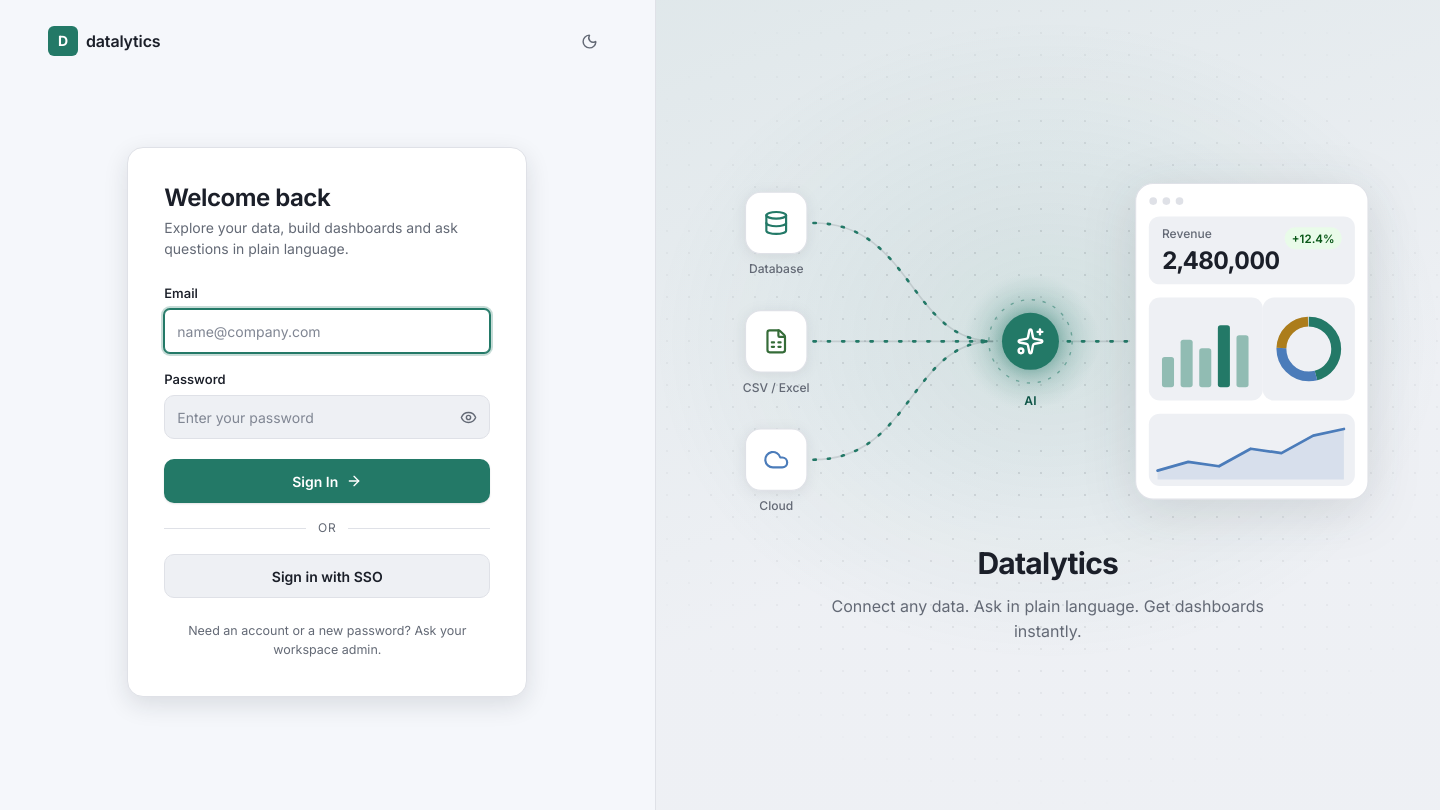
Test case: App: login comes first › stays on the login page and explains when the password is wrong
In the field labelled "Email": (327, 331) [164,309,490,353], type "alice@x.com"
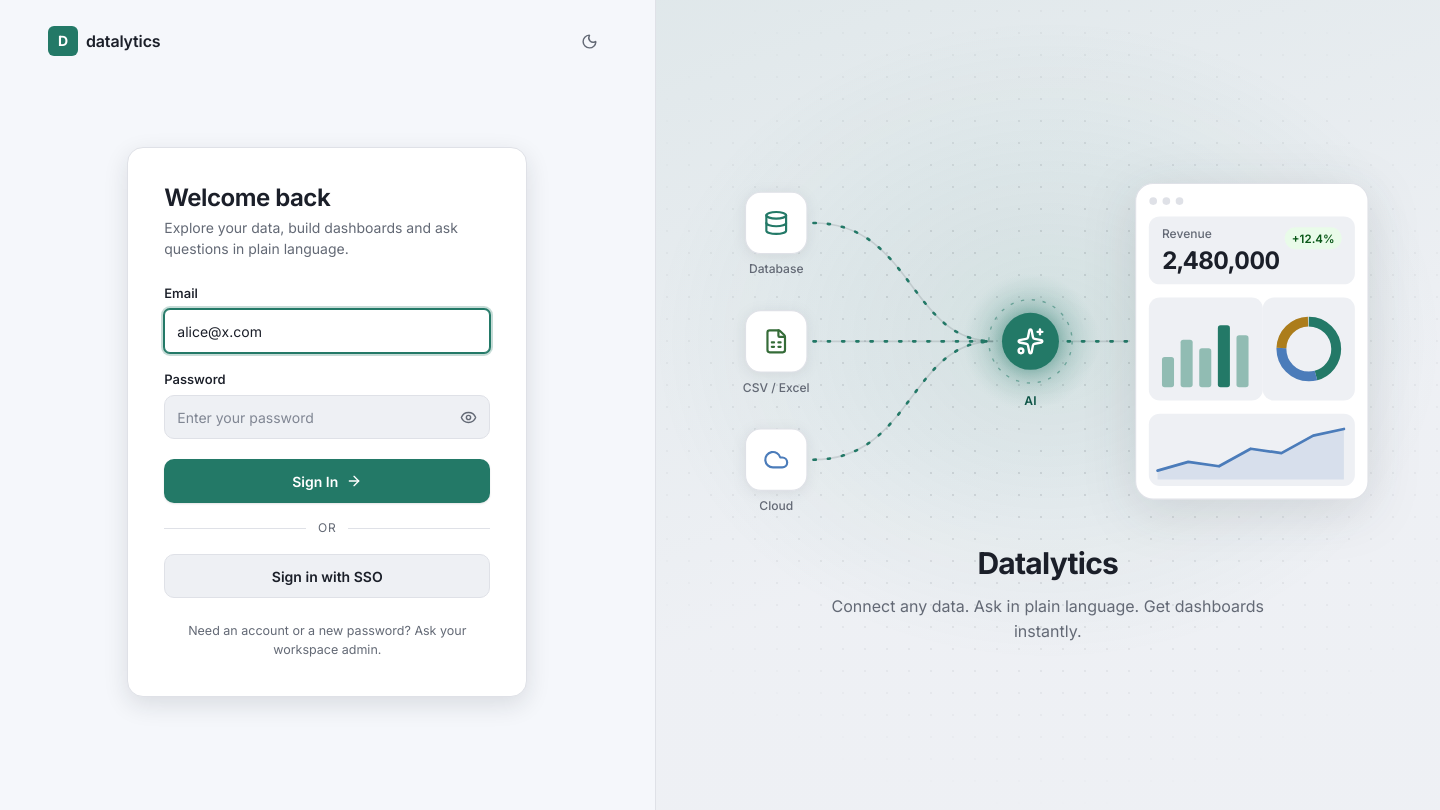
In the password field labelled "Password": (327, 418) [164,396,490,440], type "wrong-pass"
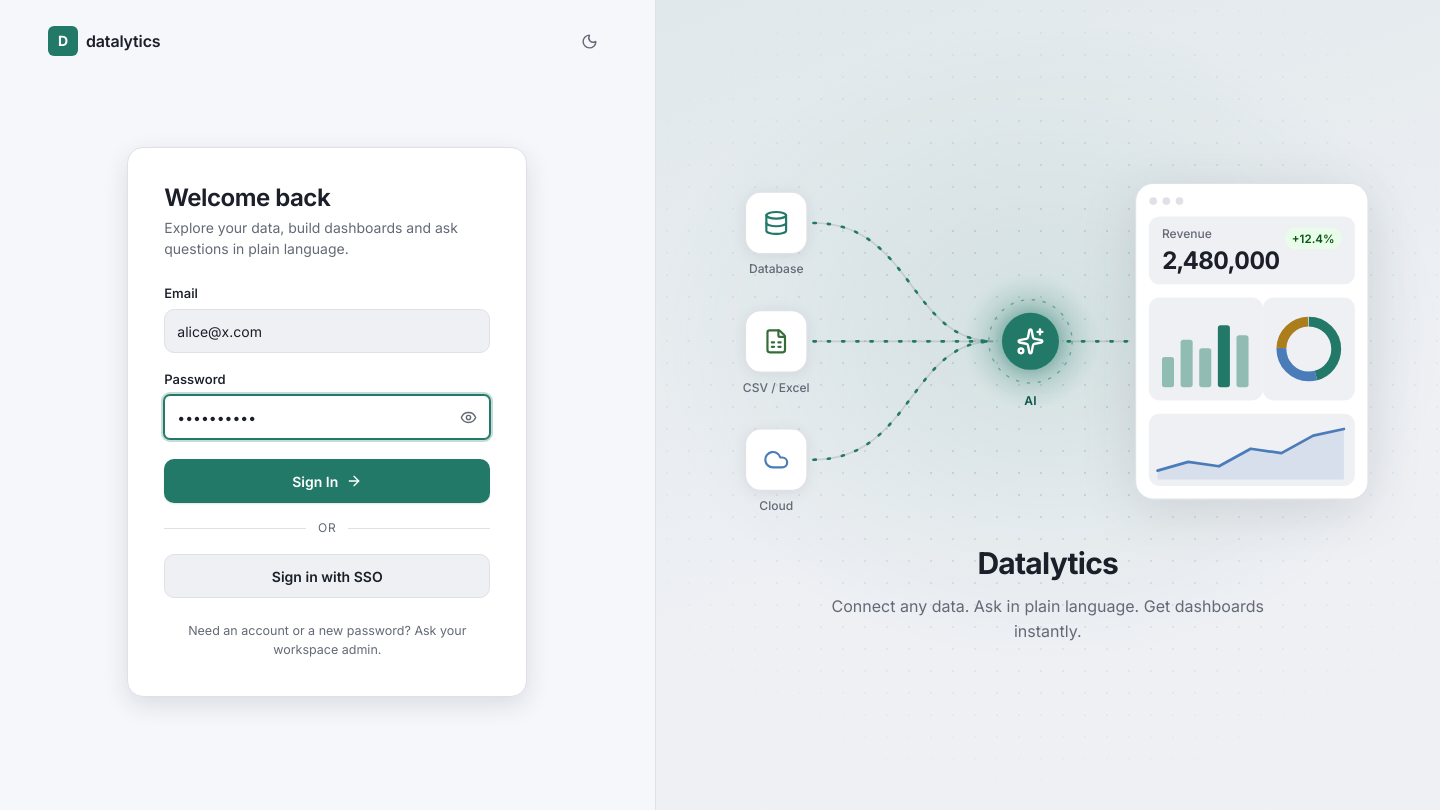
Click the button "Sign In": (327, 482) [164,460,490,504]
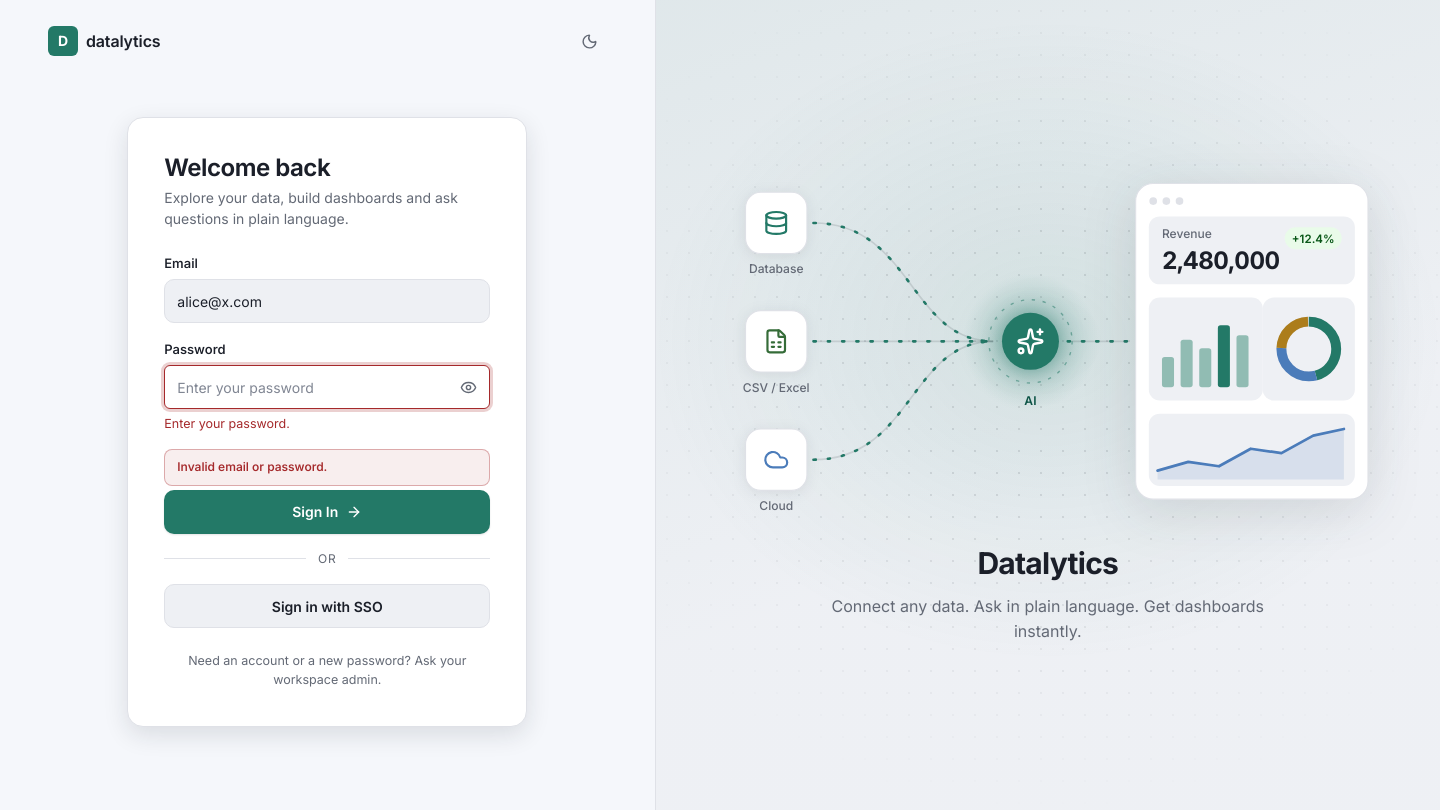
Expected: the message reads "Invalid email or password.", [177,459,327,474]
